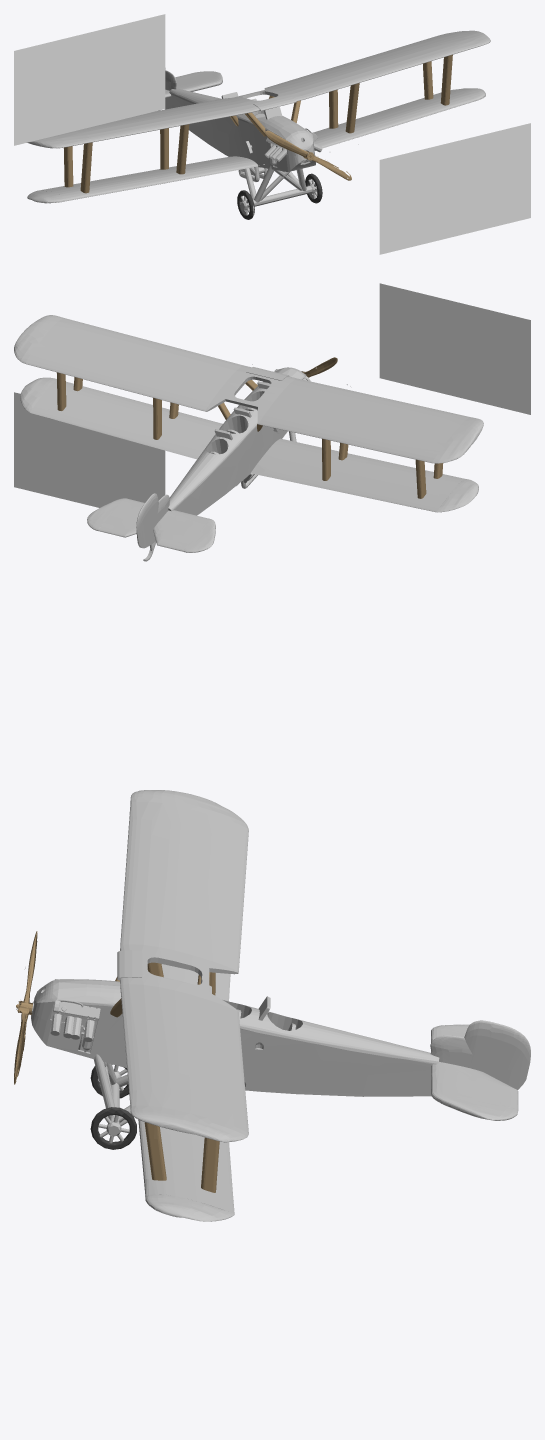
The model's file is ARtest.glb.
3 views of the same model, one above another, from view 1: azimuth 30°, elevation 25°; view 2: azimuth 150°, elevation 25°; view 3: azimuth 270°, elevation 25° (orthographic). The views are drawn at different scales.
Visible parts, largest first — view 1: hokkai1gou_5_002, 翼間支柱, 複葉機, wing strut, propeller, tire; view 2: hokkai1gou_5_002, 複葉機, 翼間支柱, wing strut; view 3: hokkai1gou_5_002, wing strut, tire, propeller.
Part boxes in pixels (box(x1,y1,x2,y2)): hokkai1gou_5_002: box(27, 30, 490, 215); 翼間支柱: box(379, 123, 530, 254); 複葉機: box(14, 14, 165, 145); wing strut: box(63, 54, 452, 193); propeller: box(265, 130, 351, 180); tire: box(237, 173, 322, 219); hokkai1gou_5_002: box(14, 315, 483, 561); 複葉機: box(379, 283, 530, 414); 翼間支柱: box(14, 392, 165, 507); wing strut: box(56, 372, 443, 498); hokkai1gou_5_002: box(16, 790, 530, 1221); wing strut: box(110, 962, 219, 1192); tire: box(90, 1064, 136, 1149); propeller: box(14, 931, 37, 1084).
Bounding box in the file's own units: 34.19 × 18.53 × 19.33.
